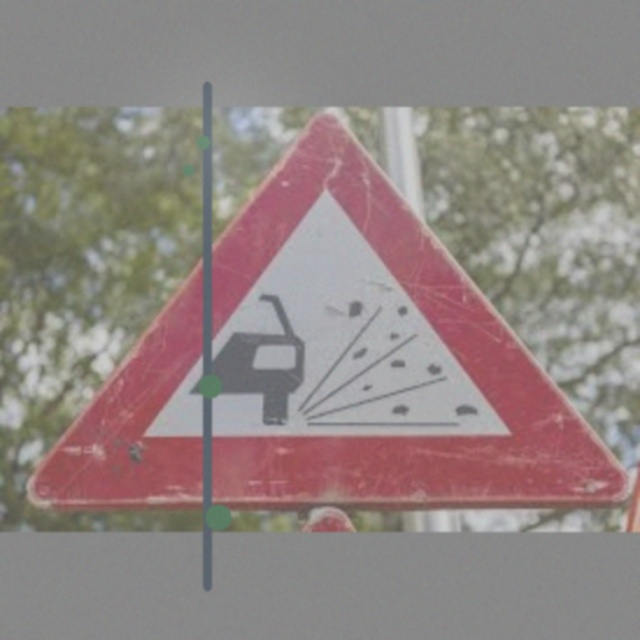Loose_Gravel: (57, 113, 612, 510)
